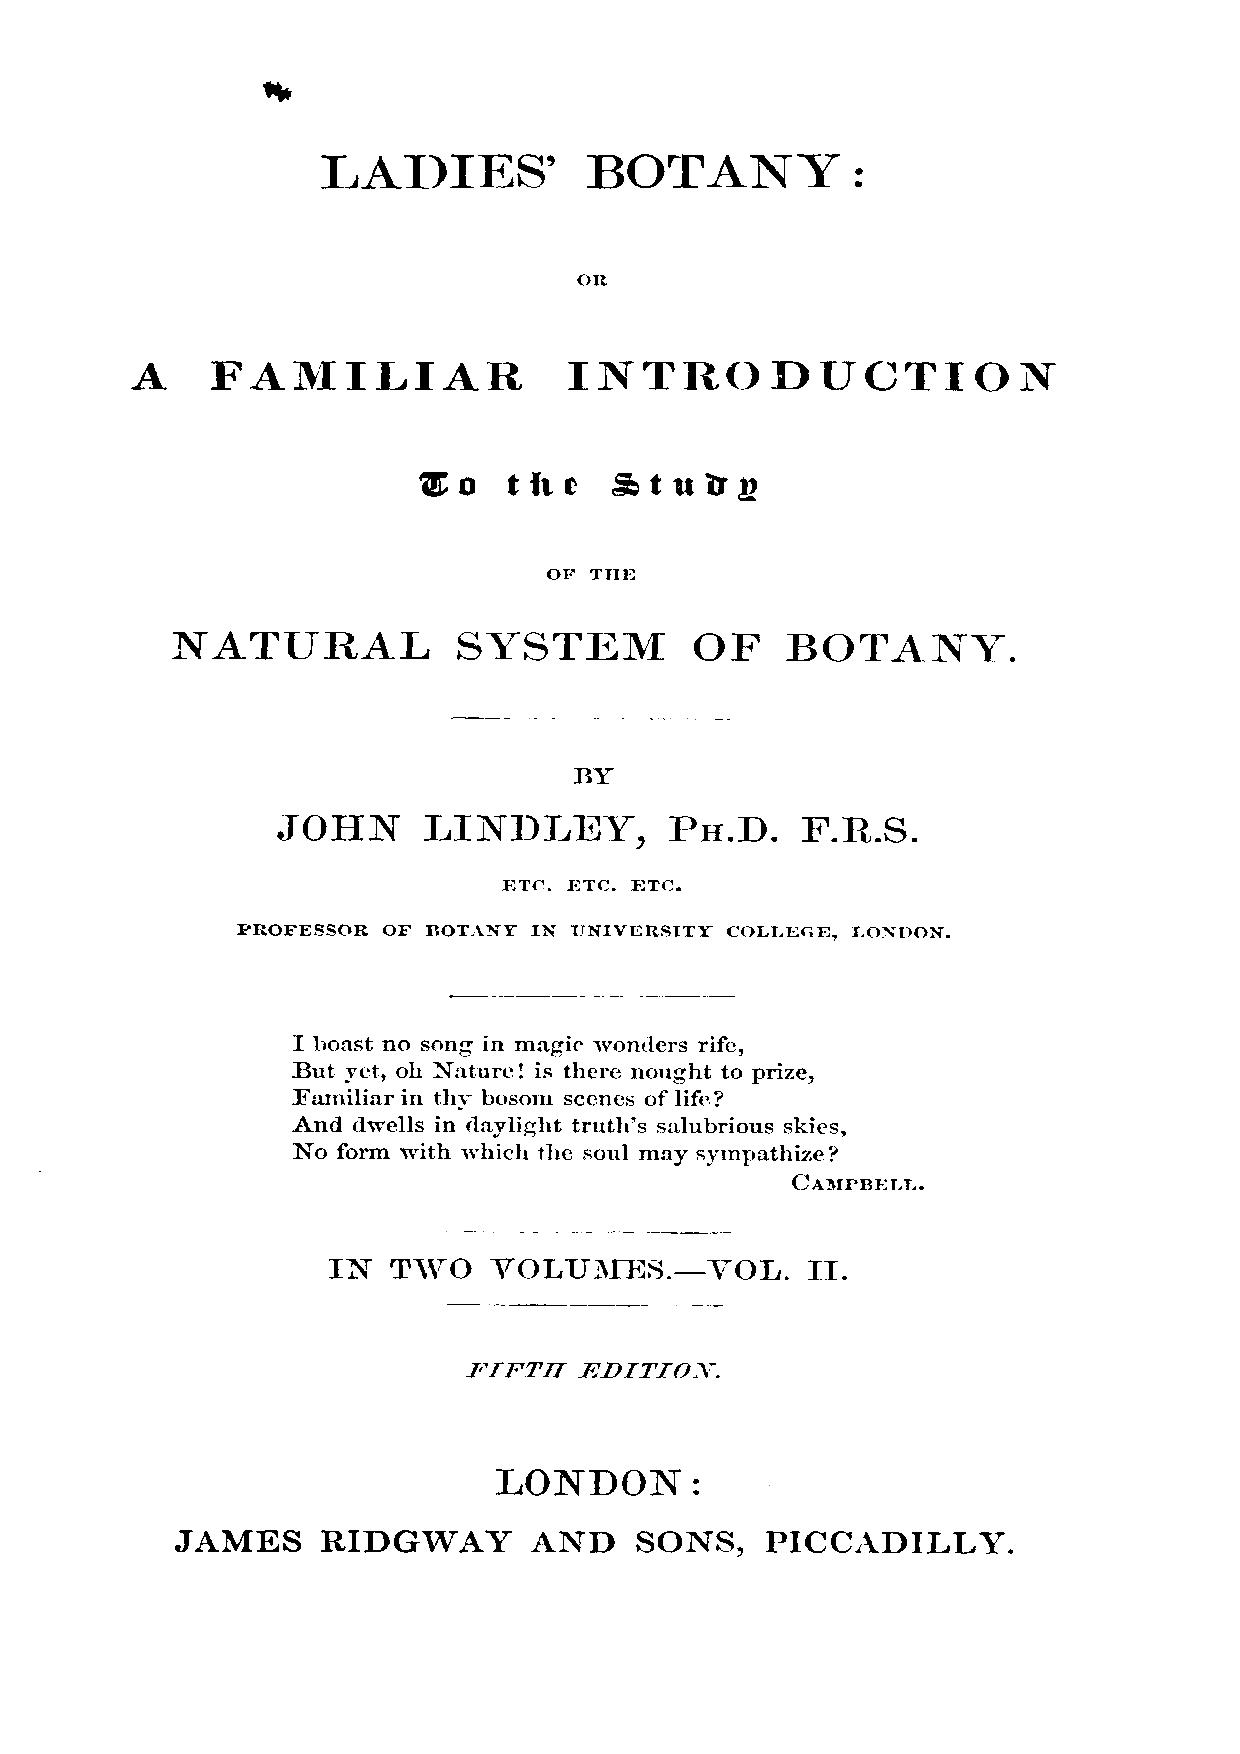author: (275, 766, 919, 844)
title: (126, 152, 1057, 663)
